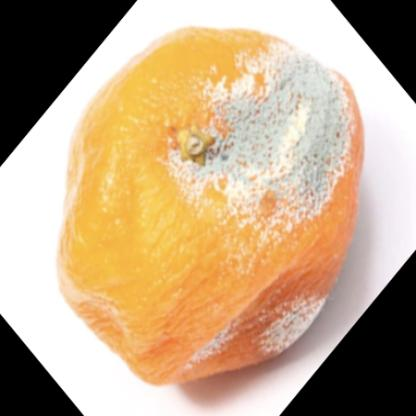rotten: (60, 23, 365, 385)
